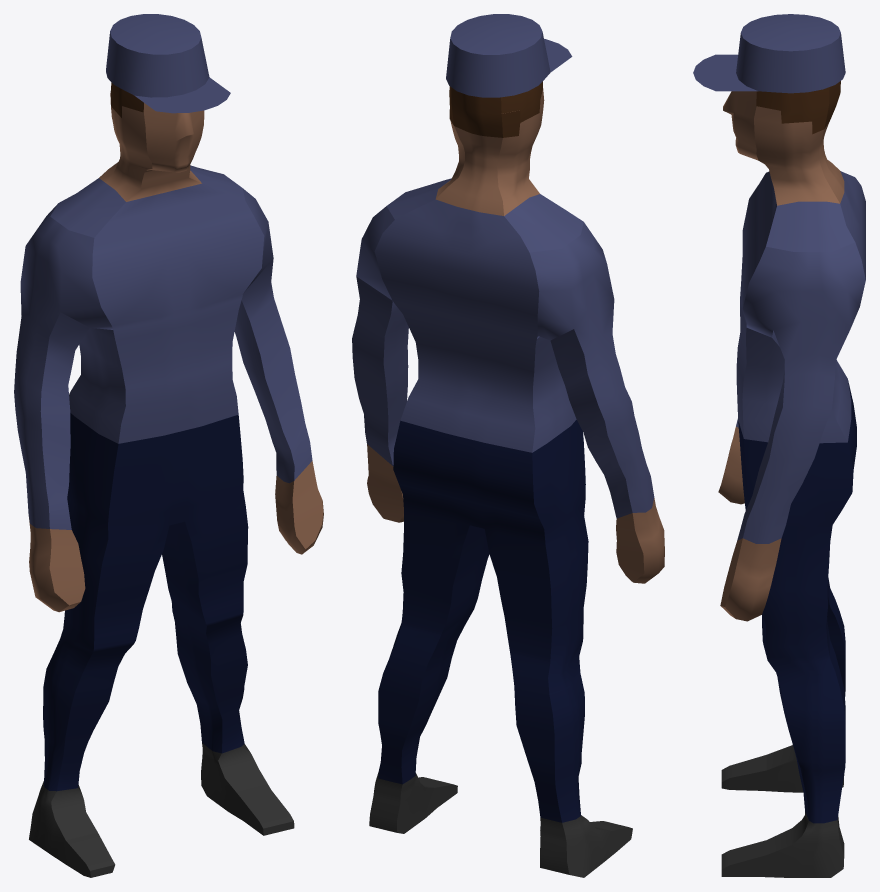
Rendered from GuardModel_Textured.fbx.
The picture shows the model from 3 angles, left to right: view 1: azimuth 30°, elevation 25°; view 2: azimuth 150°, elevation 25°; view 3: azimuth 270°, elevation 25°; orthographic projection.
Visible parts, largest first — view 1: pCylinder2; view 2: pCylinder2; view 3: pCylinder2.
Part boxes in pixels (x1=…): pCylinder2: x1=14, y1=14, x2=323, y2=877; pCylinder2: x1=352, y1=14, x2=664, y2=877; pCylinder2: x1=693, y1=14, x2=865, y2=877.
Bounding box in the file's own units: 2.68 × 7.11 × 1.39.
